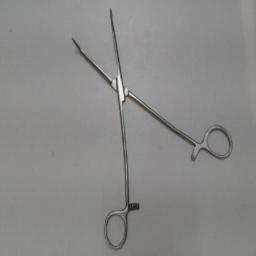Lahey Forceps: (67, 6, 235, 252)
